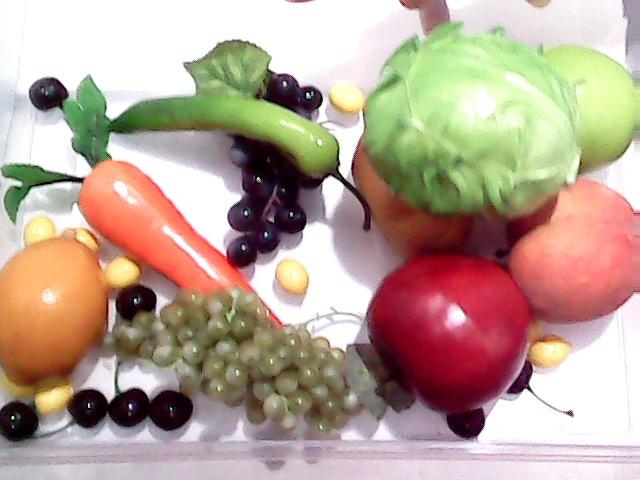apple: (362, 253, 530, 412), (536, 39, 640, 173)
cabbage: (364, 18, 588, 214)
carrot: (3, 74, 285, 326)
grape: (93, 287, 354, 431), (220, 69, 324, 270)
lemon: (3, 226, 113, 390)
peach: (496, 177, 640, 325)
pepper: (92, 87, 360, 189)
potato: (351, 131, 477, 257)
